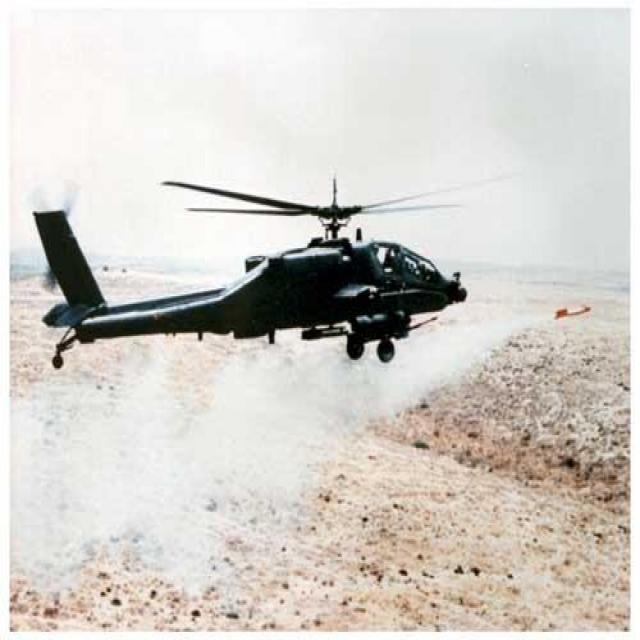MIL_HELO: (34, 176, 509, 386)
